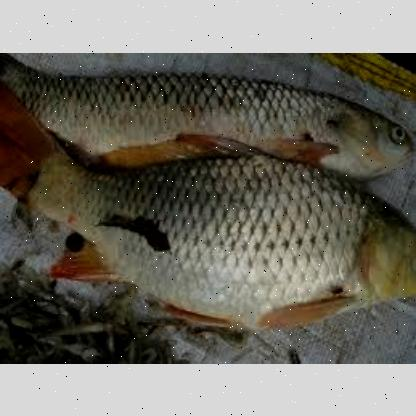ikan-mas: (16, 147, 414, 327), (0, 52, 416, 182)
